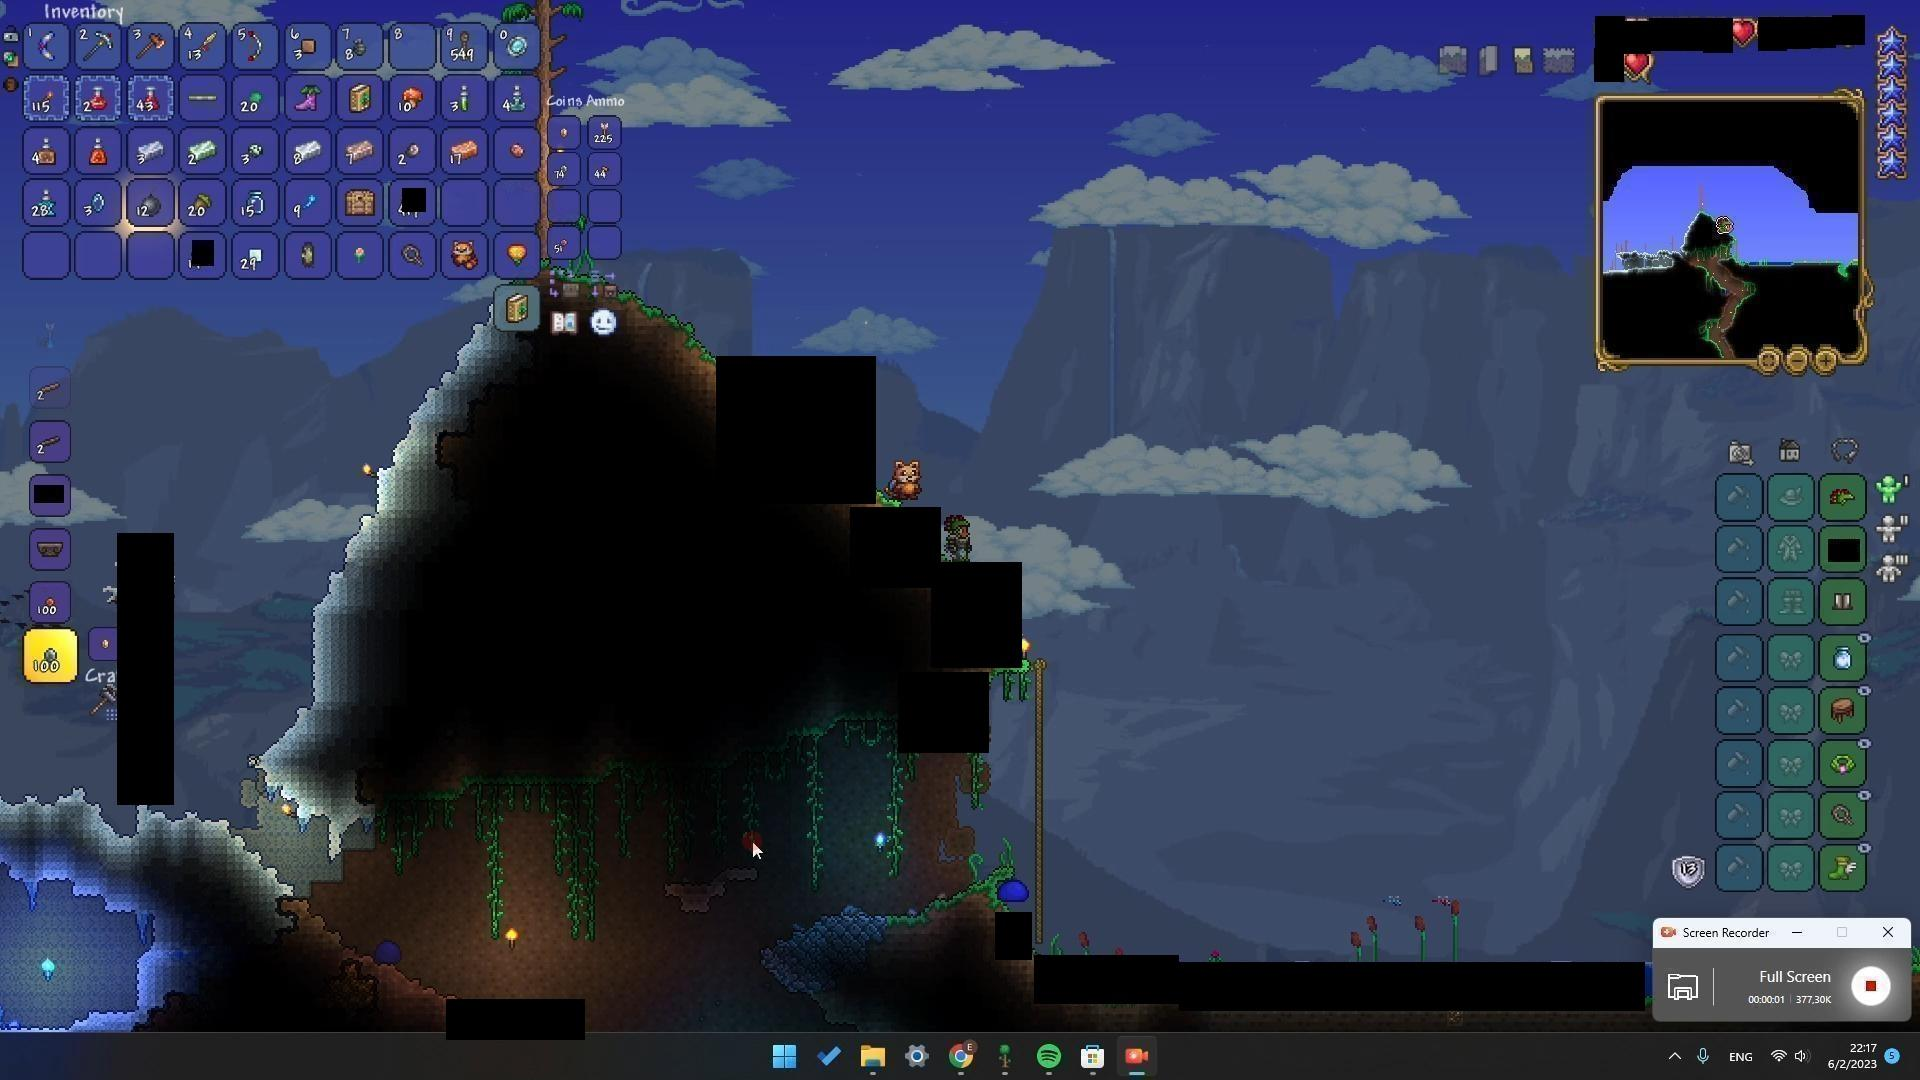dirt: (884, 885, 994, 957), (625, 291, 715, 372)
heart: (1730, 18, 1760, 51), (1623, 46, 1652, 79)
legs: (1828, 589, 1857, 612)
slime: (357, 930, 410, 971), (994, 876, 1027, 909)
